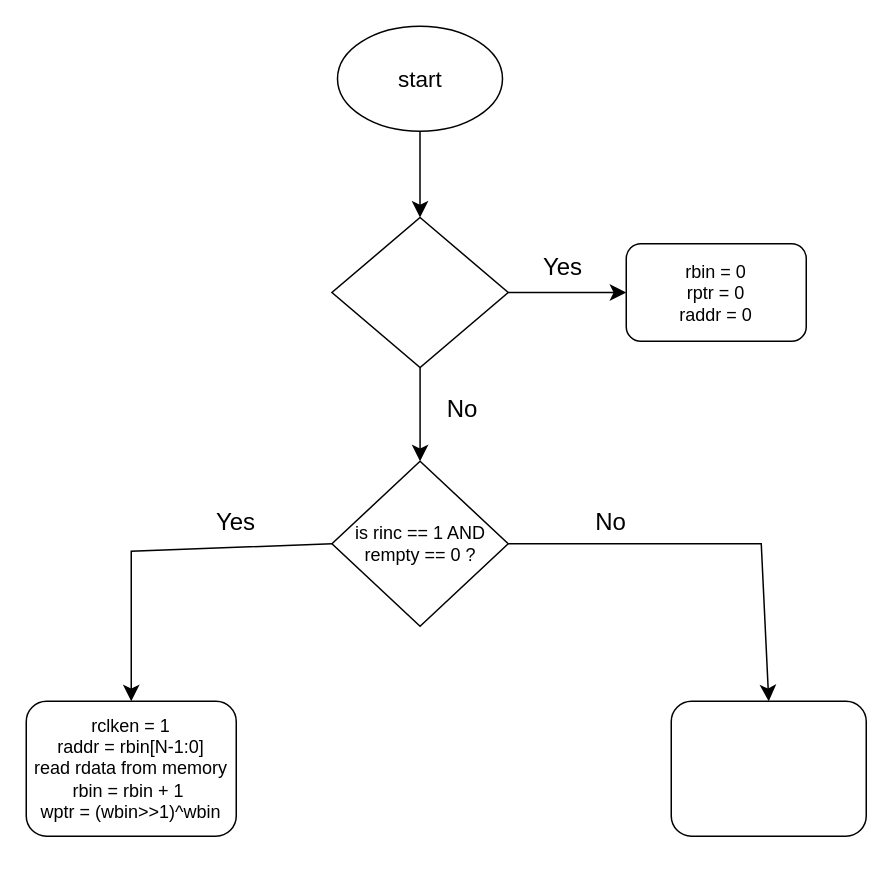
Image size: 893x870. Some labels were removed from this diagram. The centre of each missing label's shape, as x and y in pixels:
is reset active?: the point at 419,292
rclken = 0 keep current rbin: the point at 768,768
